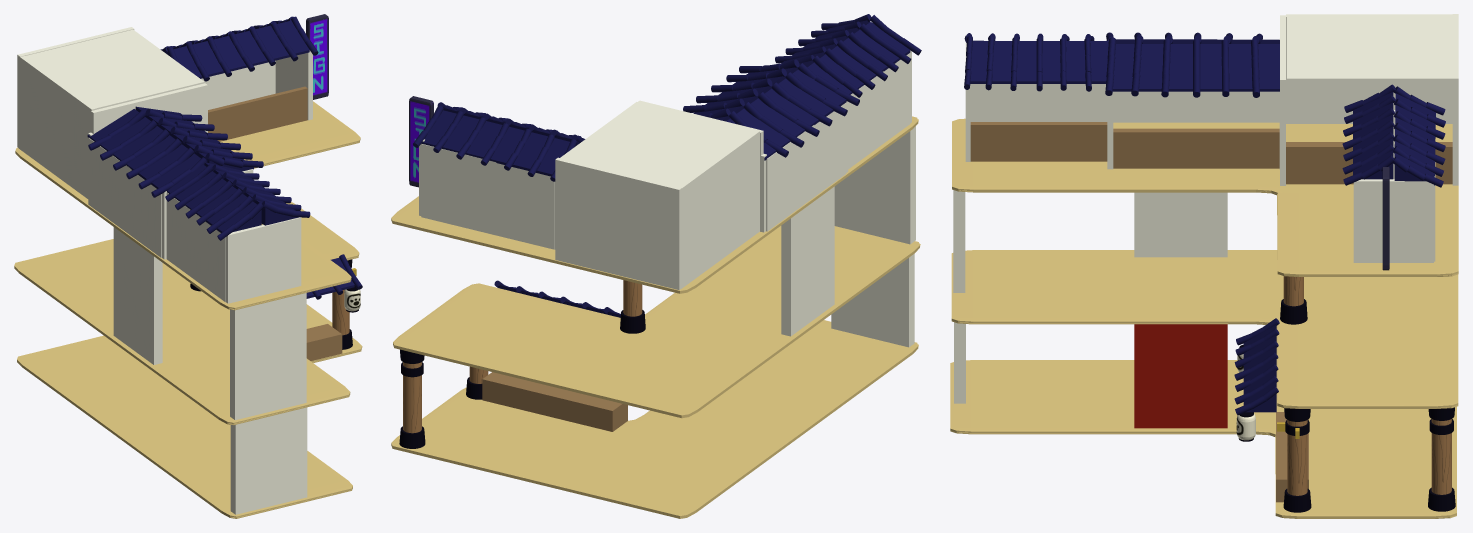
File: neotokyo.gltf
3 views of the same model, side by side, from view 1: azimuth 30°, elevation 25°; view 2: azimuth 150°, elevation 25°; view 3: azimuth 270°, elevation 25° (orthographic). The views are drawn at different scales.
Parts seen in each view (by area): view 1: Floor, Floor1, Cube.010, Cube.032, Floor1.001, Cube.001, Cube.028, Cube.006, Cube.018, Cube.022, Cube.016, Cube.008 (+12 smaller); view 2: Floor1, Floor, Cube.031, Cube.011, Cube.032, Cube.028, Cube.010, Cube.006, Cube.022, Floor1.001, Cube.001, Cube.004 (+9 smaller); view 3: Floor1, Floor, Floor1.001, Cube.032, Cube.005, Cube.023, Cube.026, Cube.006, Cube.014, Cube.017, Cube.022, Cube.016 (+16 smaller).
Boxes of the visible parts, left/top/right/bottom form: Floor: left=17, top=304, right=362, bottom=518; Floor1: left=14, top=202, right=359, bottom=425; Cube.010: left=230, top=293, right=306, bottom=420; Cube.032: left=25, top=29, right=204, bottom=109; Floor1.001: left=15, top=101, right=360, bottom=310; Cube.001: left=230, top=407, right=307, bottom=514; Cube.028: left=18, top=56, right=96, bottom=198; Cube.006: left=113, top=227, right=162, bottom=364; Cube.018: left=226, top=217, right=301, bottom=303; Cube.022: left=88, top=137, right=161, bottom=257; Cube.016: left=166, top=192, right=225, bottom=302; Cube.008: left=167, top=20, right=309, bottom=78; Floor1: left=393, top=226, right=920, bottom=418; Floor: left=391, top=320, right=918, bottom=518; Cube.031: left=555, top=157, right=681, bottom=289; Cube.011: left=421, top=144, right=554, bottom=249; Cube.032: left=560, top=102, right=753, bottom=186; Cube.028: left=678, top=130, right=759, bottom=288; Cube.010: left=834, top=126, right=915, bottom=244; Cube.006: left=781, top=186, right=834, bottom=336; Cube.022: left=766, top=102, right=846, bottom=231; Floor1.001: left=391, top=116, right=918, bottom=293; Cube.001: left=831, top=254, right=914, bottom=347; Cube.004: left=482, top=372, right=627, bottom=431; Floor1: left=951, top=250, right=1458, bottom=408; Floor: left=950, top=360, right=1456, bottom=518; Floor1.001: left=952, top=118, right=1458, bottom=276; Cube.032: left=1287, top=17, right=1452, bottom=84; Cube.005: left=1134, top=324, right=1227, bottom=428; Cube.023: left=1113, top=128, right=1279, bottom=168; Cube.026: left=1112, top=44, right=1279, bottom=91; Cube.006: left=1134, top=192, right=1227, bottom=257; Cube.014: left=1353, top=179, right=1433, bottom=262; Cube.017: left=970, top=122, right=1107, bottom=161; Cube.022: left=1113, top=91, right=1279, bottom=122; Cube.016: left=970, top=84, right=1107, bottom=121.
Bounding box in the file's own units: 234 × 231 × 301.
Materials: 11 (4 with a texture image).
